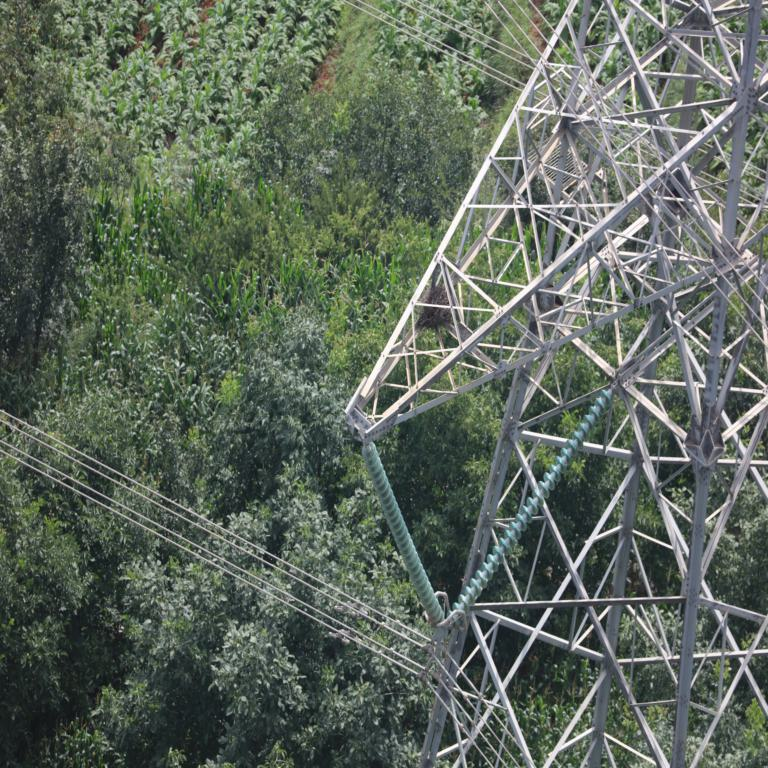nest: (423, 291, 453, 331)
